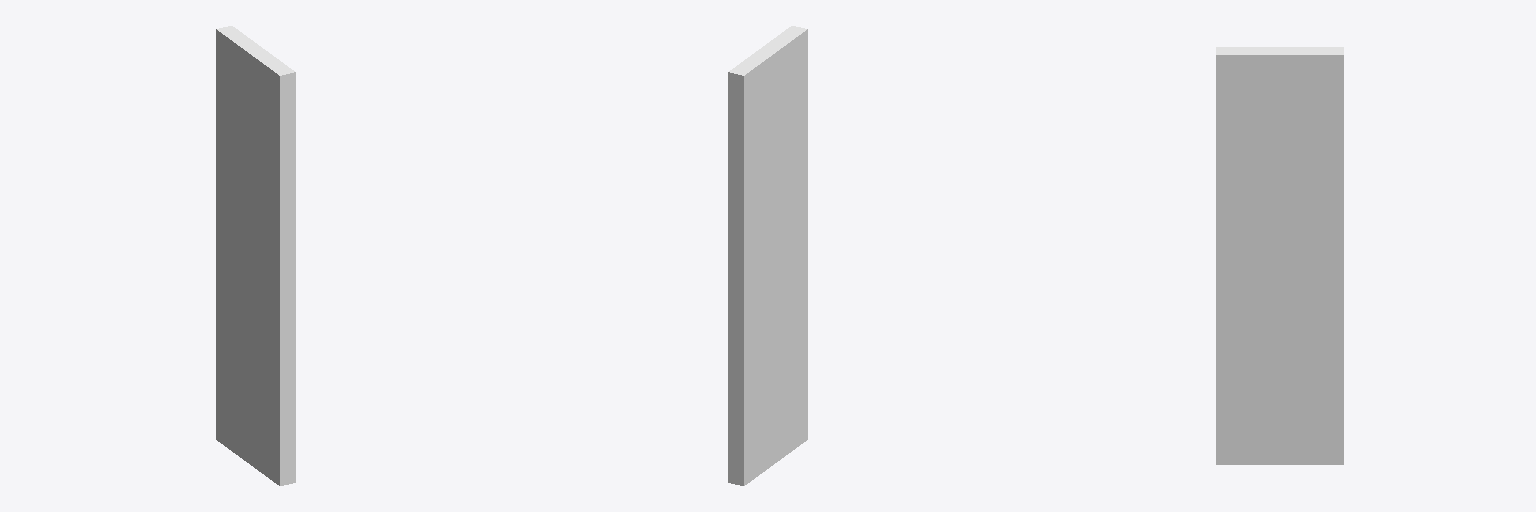
The model's file is Wall_5.obj.
3 renders of one model, left to right at view 1: azimuth 30°, elevation 25°; view 2: azimuth 150°, elevation 25°; view 3: azimuth 270°, elevation 25°, orthographic.
Visible parts, largest first — view 1: Mesh39_Group31_Model; view 2: Mesh39_Group31_Model; view 3: Mesh39_Group31_Model.
Part boxes in pixels (left/top/right/bottom): Mesh39_Group31_Model: left=216, top=26, right=295, bottom=485; Mesh39_Group31_Model: left=728, top=26, right=807, bottom=485; Mesh39_Group31_Model: left=1216, top=47, right=1343, bottom=464.
Bounding box in the file's own units: 4.8 × 120 × 33.78.